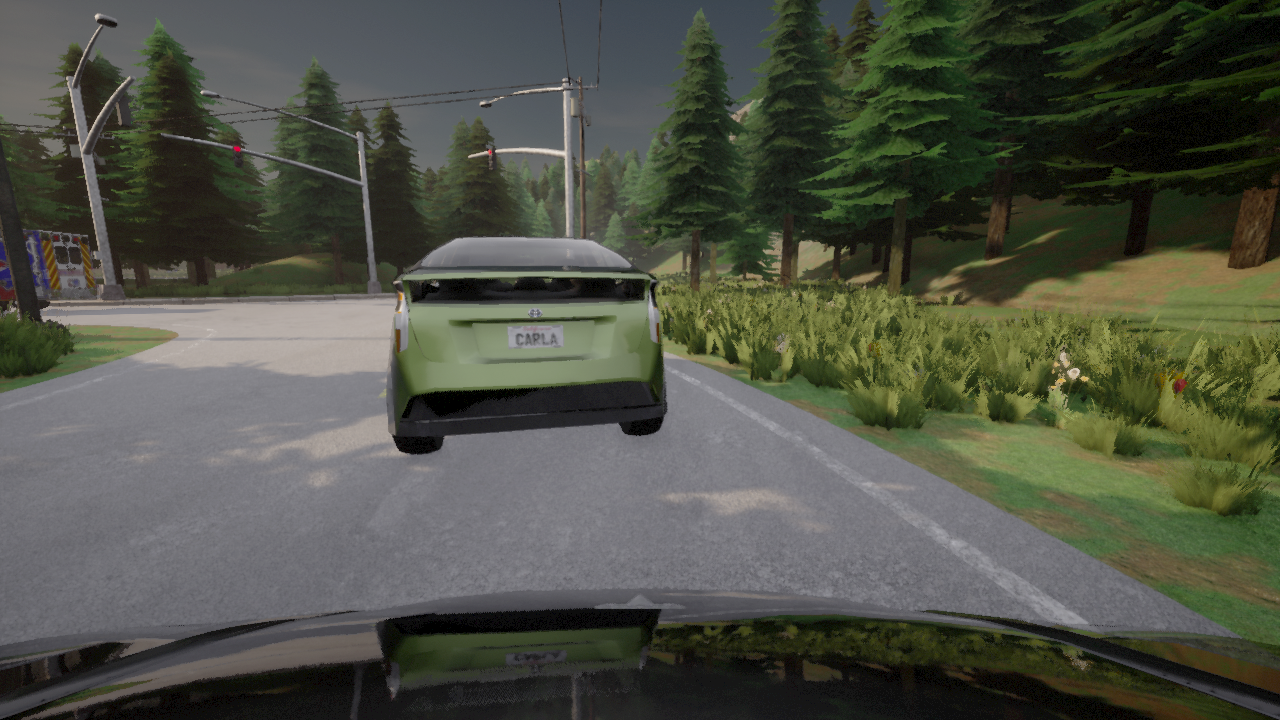cyclist: (0, 588, 1279, 719), (387, 236, 666, 453)
